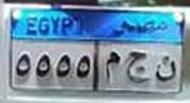5: (73, 52, 93, 80), (13, 49, 31, 79), (53, 51, 72, 79), (34, 51, 52, 80)
jeem: (126, 49, 150, 88)
meem: (102, 49, 122, 86)
noon: (154, 49, 177, 85)
